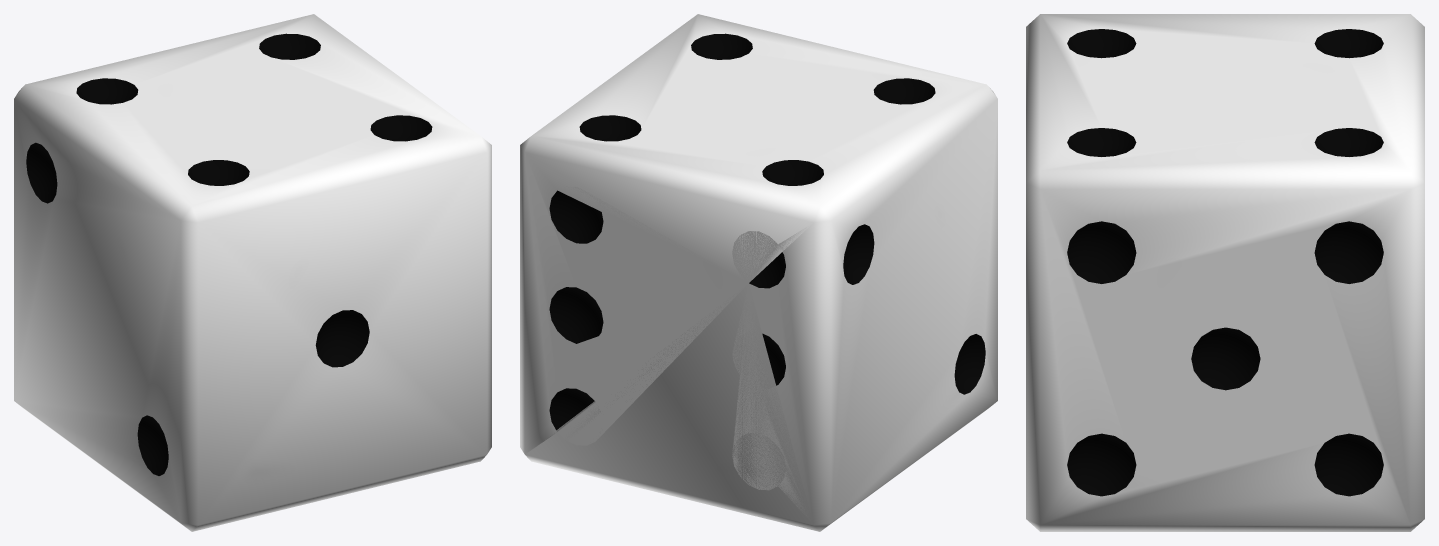
The model's file is dado_branco.fbx.
3 renders of one model, left to right at view 1: azimuth 30°, elevation 25°; view 2: azimuth 150°, elevation 25°; view 3: azimuth 270°, elevation 25°, orthographic. The views are drawn at different scales.
Parts seen in each view (by area): view 1: dado; view 2: dado; view 3: dado.
Boxes of the visible parts, x1=… form: dado: x1=14, y1=14, x2=491, y2=531; dado: x1=520, y1=14, x2=997, y2=531; dado: x1=1026, y1=14, x2=1424, y2=531.
Size of the model in its own units: 11.79 by 11.79 by 11.79.
